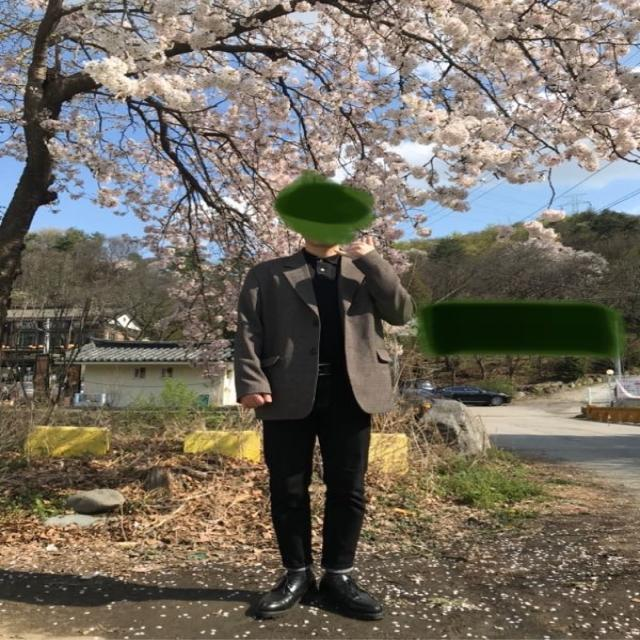blazer: (234, 251, 417, 419)
slacks: (260, 358, 371, 570)
